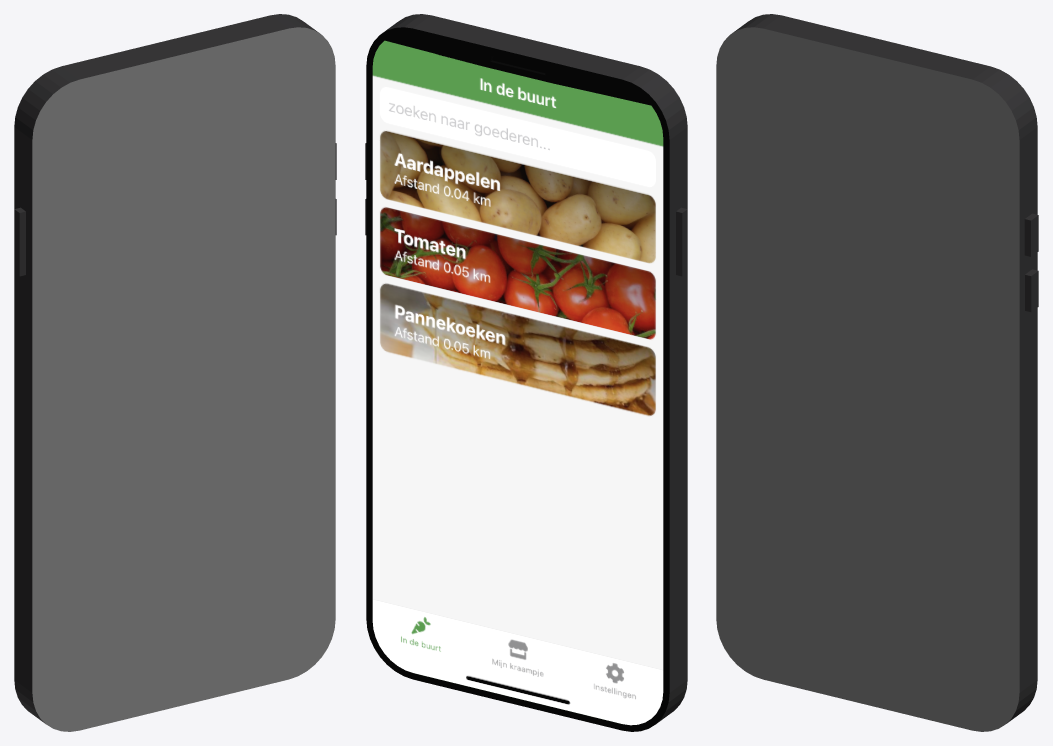
File: phone.gltf
3 views of the same model, side by side, from view 1: azimuth 30°, elevation 25°; view 2: azimuth 150°, elevation 25°; view 3: azimuth 330°, elevation 25° (orthographic).
Parts seen in each view (by area): view 1: Back, Rim; view 2: Screen, Rim, Bezel; view 3: Back, Rim.
Boxes of the visible parts, bbox=[...] form: Back: bbox=[32, 27, 335, 731]; Rim: bbox=[14, 14, 336, 723]; Screen: bbox=[372, 40, 663, 725]; Rim: bbox=[365, 14, 687, 723]; Bezel: bbox=[366, 27, 669, 731]; Back: bbox=[716, 27, 1019, 731]; Rim: bbox=[732, 14, 1038, 723].
Size of the model in its own units: 0.149 by 0.2934 by 0.0148.
Materials: 4 (1 with a texture image).
